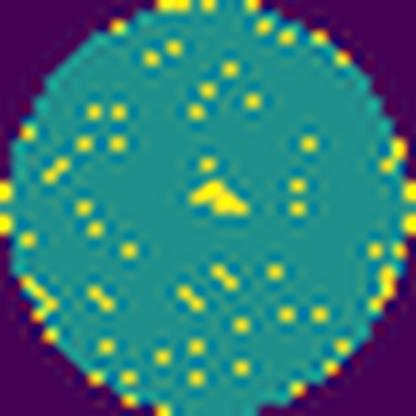Center: (186, 174, 252, 216)
